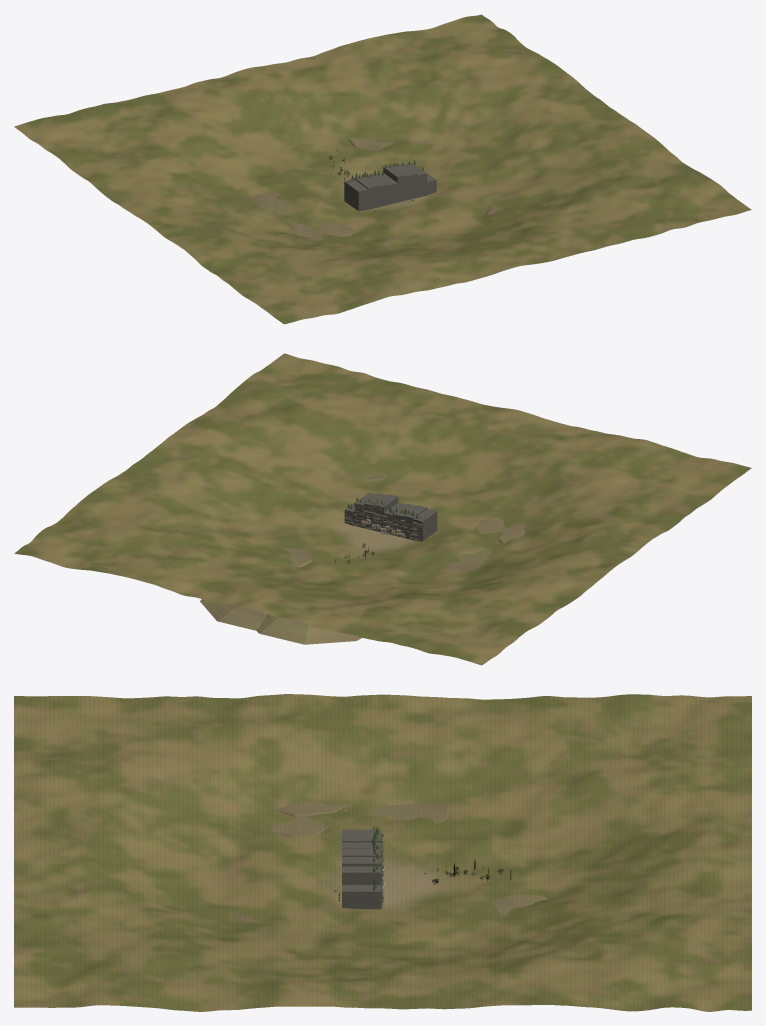
The model's file is myra-kaya-mezarlari-baked.glb.
3 renders of one model, top to bottom at view 1: azimuth 30°, elevation 25°; view 2: azimuth 150°, elevation 25°; view 3: azimuth 270°, elevation 25°, orthographic. The views are drawn at different scales.
Parts seen in each view (by area): view 1: myra-kaya-mezarlari-terrain, myra-kaya-mezarlari-near; view 2: myra-kaya-mezarlari-terrain, myra-kaya-mezarlari-near, myra-kaya-mezarlari-ground; view 3: myra-kaya-mezarlari-terrain, myra-kaya-mezarlari-near.
Part boxes in pixels (x1,y1,x2,y2): myra-kaya-mezarlari-terrain: [14, 14, 751, 324]; myra-kaya-mezarlari-near: [251, 136, 496, 240]; myra-kaya-mezarlari-terrain: [14, 353, 751, 665]; myra-kaya-mezarlari-near: [266, 476, 525, 571]; myra-kaya-mezarlari-ground: [200, 476, 503, 644]; myra-kaya-mezarlari-terrain: [14, 694, 751, 1011]; myra-kaya-mezarlari-near: [234, 801, 547, 933].
Bounding box in the file's own units: 828 × 68.58 × 828.
Materials: 14 (11 with a texture image).
